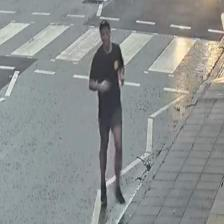person: (88, 20, 125, 208)
